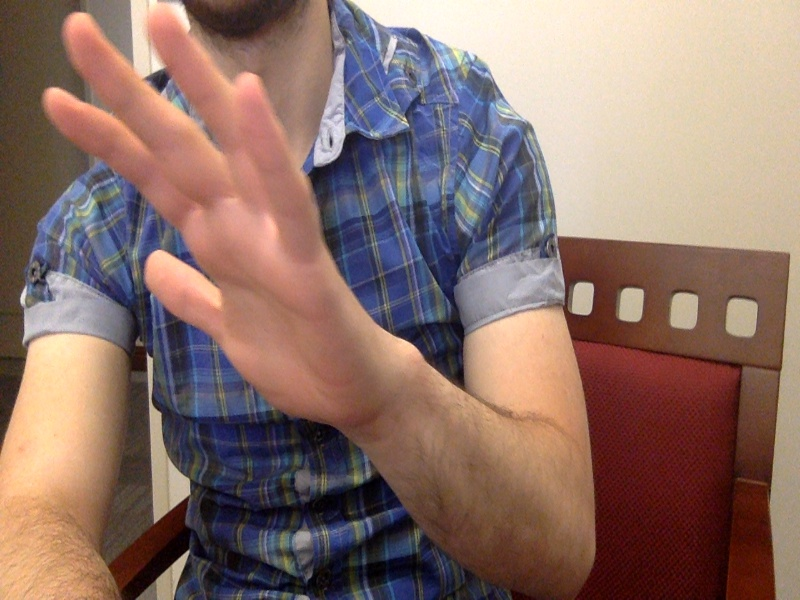5-hand: (39, 4, 408, 458)
